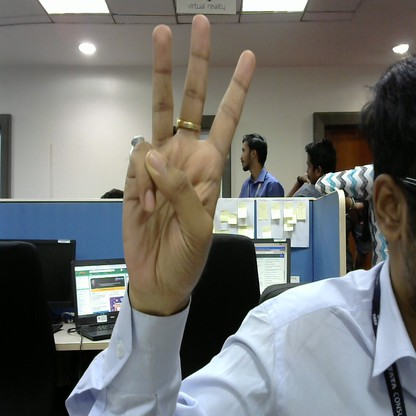w: (121, 13, 259, 307)
